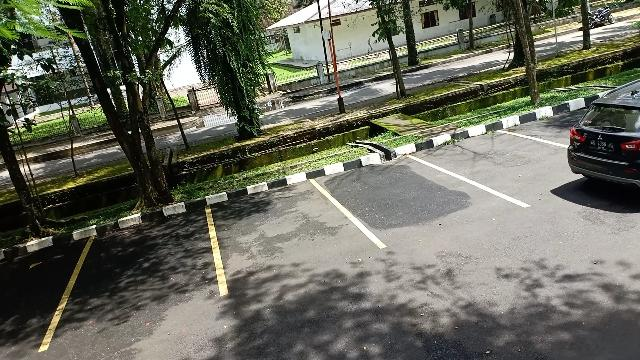empty: (67, 219, 217, 331), (213, 178, 345, 292), (323, 156, 457, 250), (449, 129, 565, 205)
